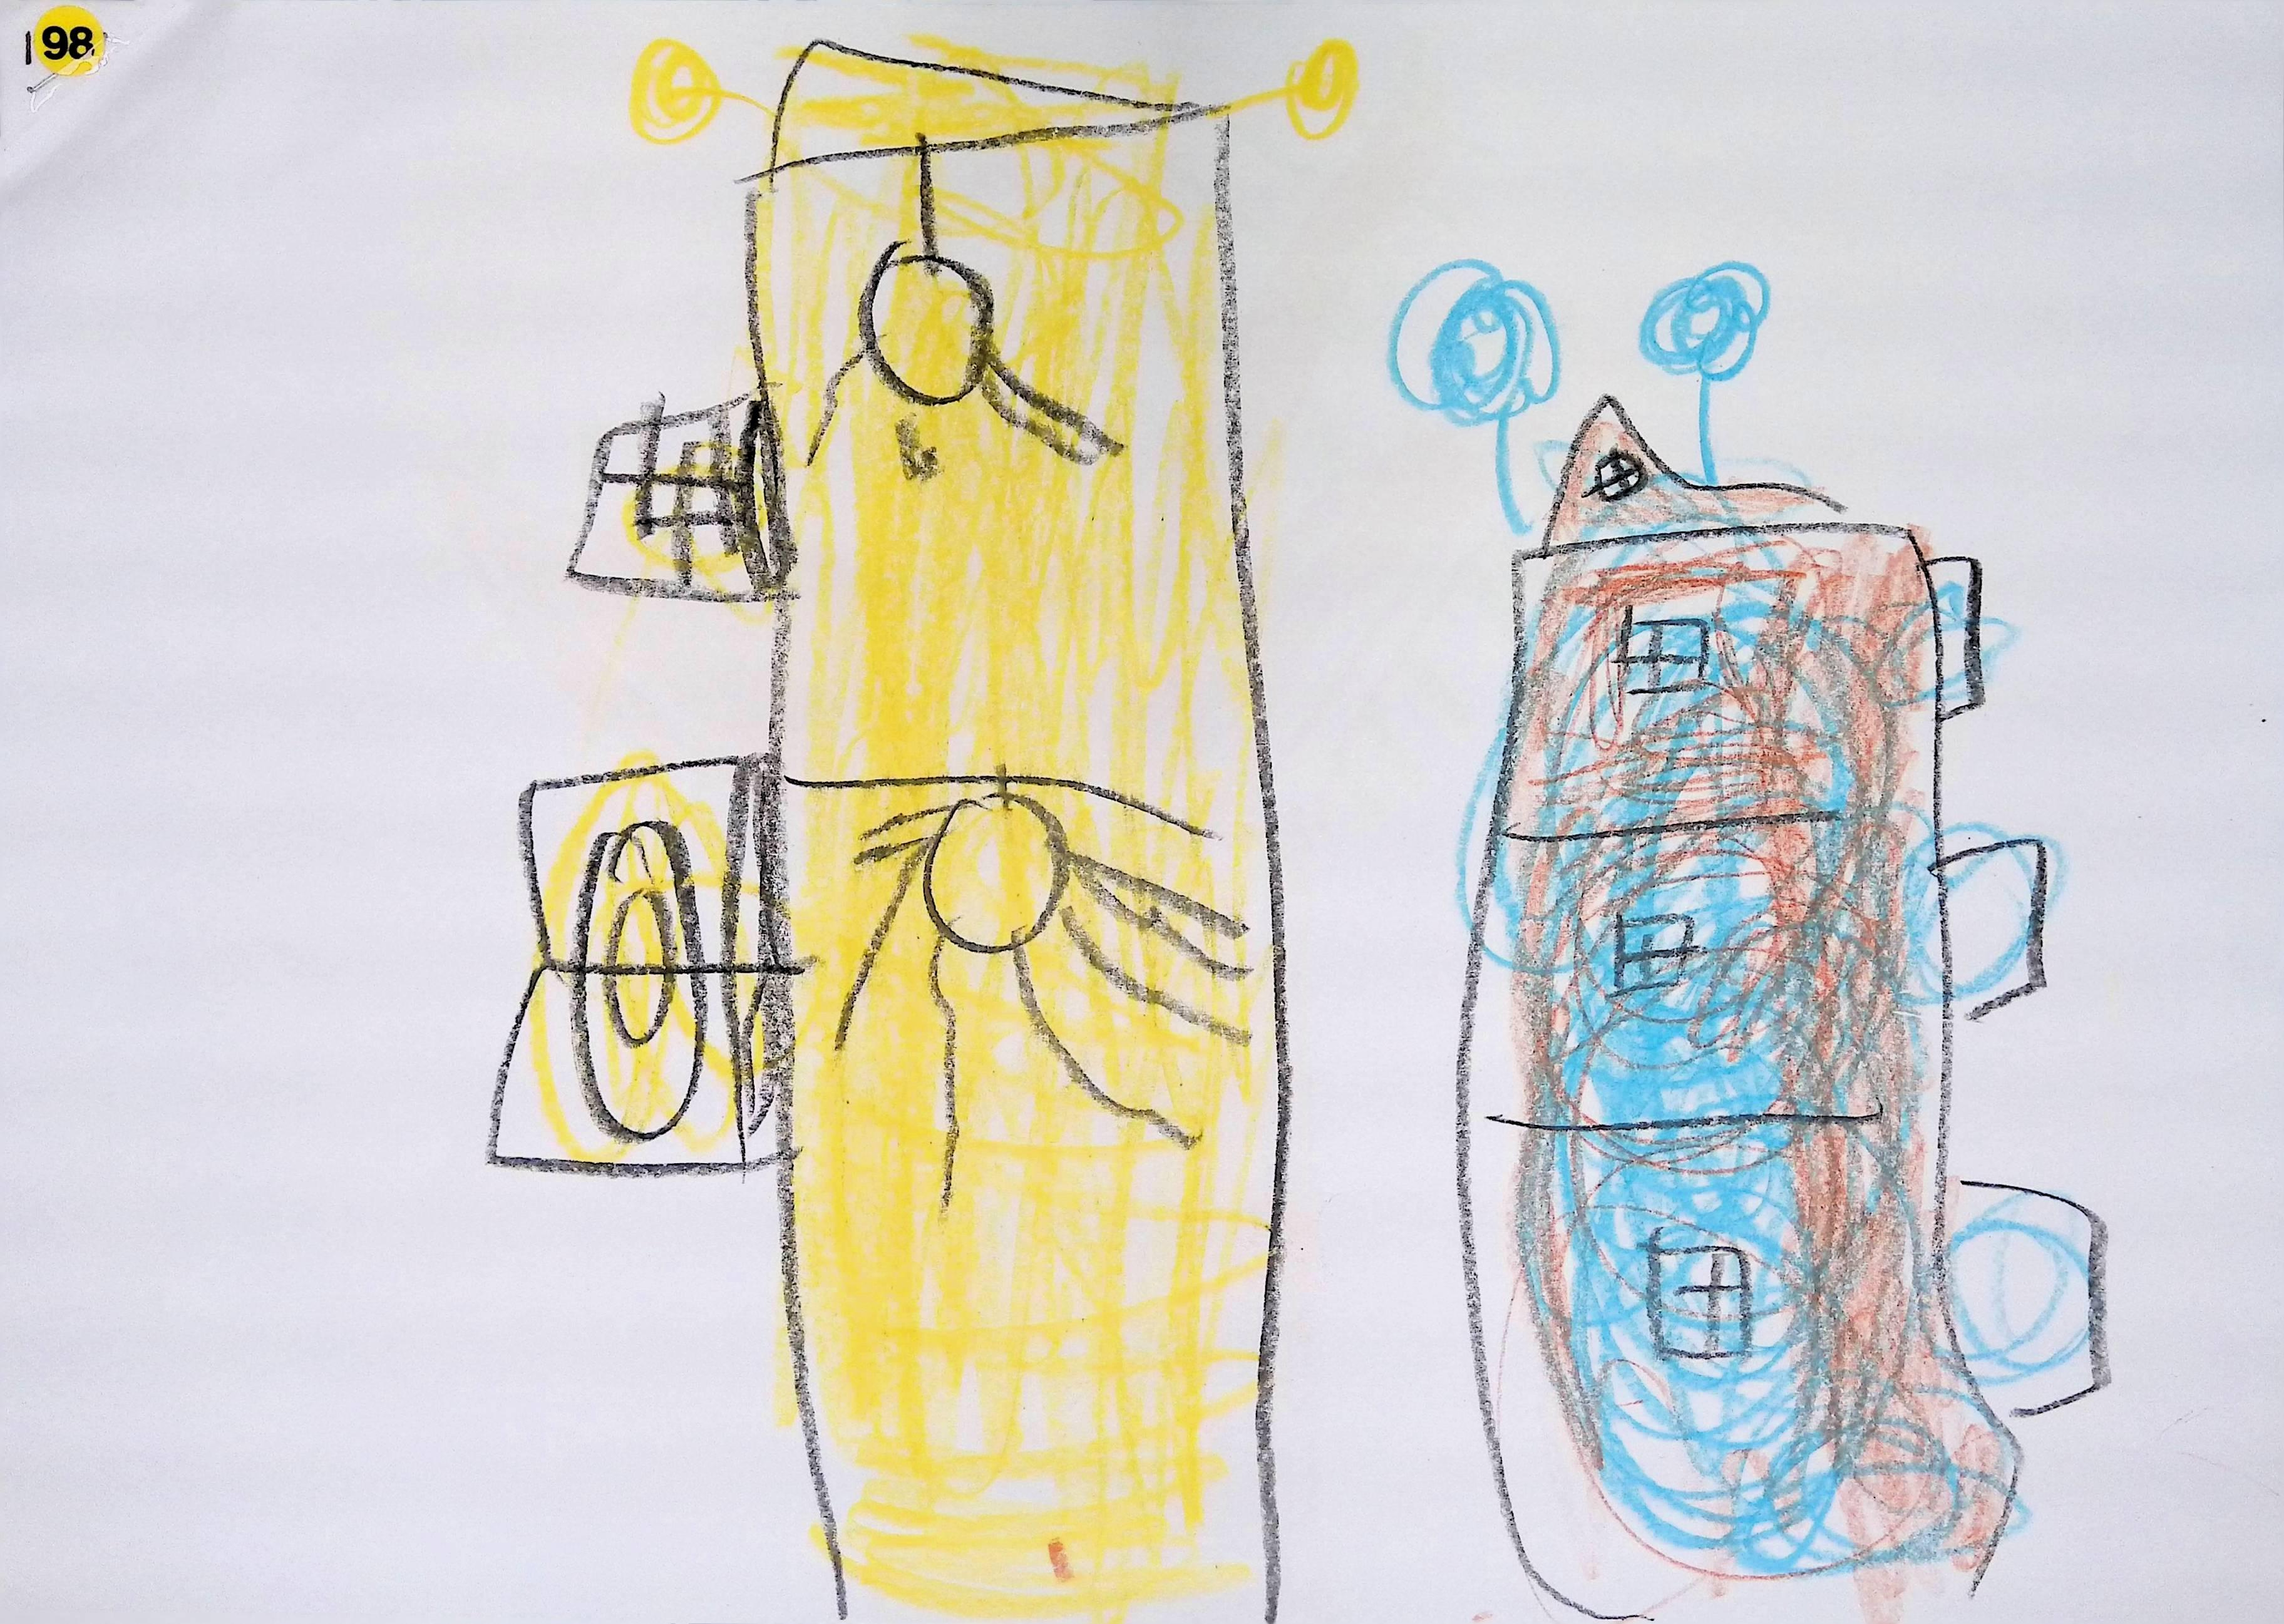house: (1462, 395, 2110, 1617)
roof: (1546, 394, 1847, 547)
wall: (1478, 526, 2026, 1624)
window: (1643, 1230, 1755, 1360), (1616, 605, 1713, 692), (1611, 912, 1708, 995), (1585, 446, 1652, 501)
